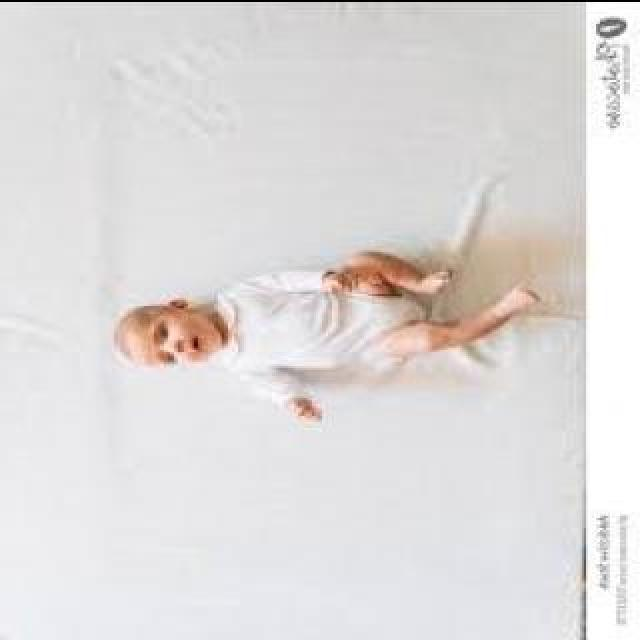baby: (117, 247, 545, 419)
